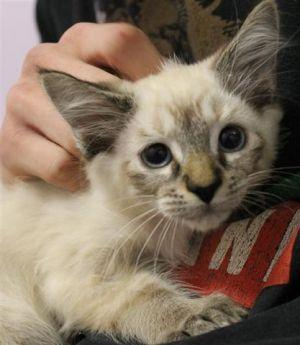siamese: (39, 1, 290, 246)
